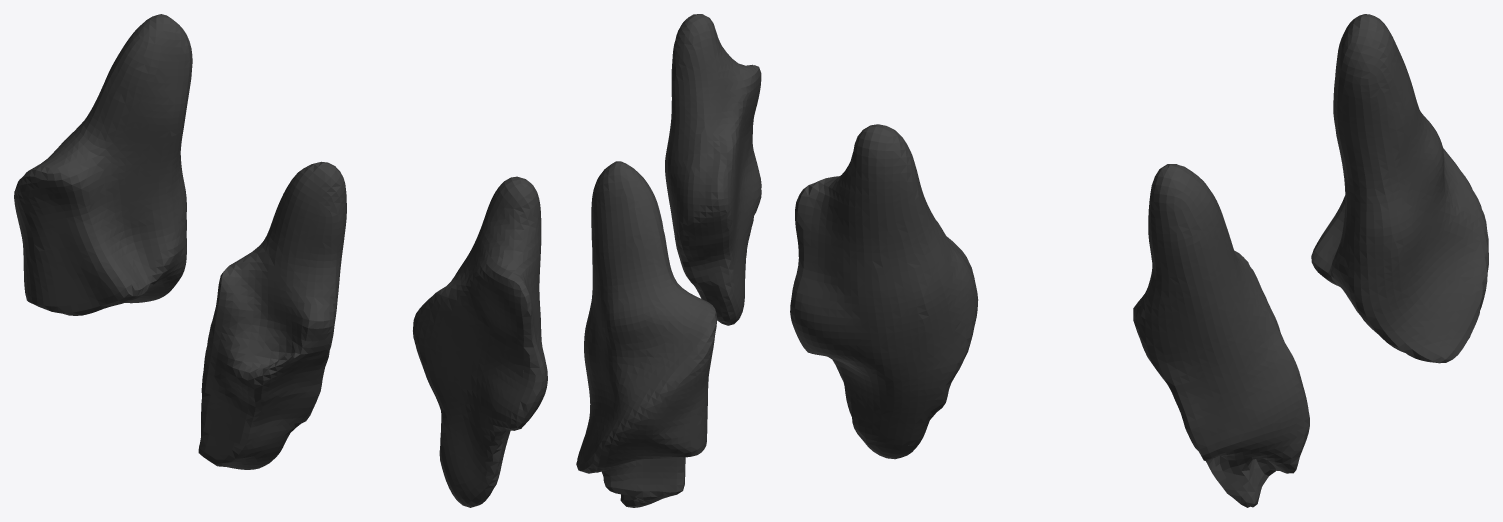
File: canine_cardiac_papillary_muscles.glb
3 views of the same model, side by side, from view 1: azimuth 30°, elevation 25°; view 2: azimuth 150°, elevation 25°; view 3: azimuth 270°, elevation 25° (orthographic). The views are drawn at different scales.
Parts seen in each view (by area): view 1: canine_cardiac_papillary_muscles; view 2: canine_cardiac_papillary_muscles; view 3: canine_cardiac_papillary_muscles.
Boxes of the visible parts, bbox=[...] form: canine_cardiac_papillary_muscles: bbox=[14, 14, 547, 507]; canine_cardiac_papillary_muscles: bbox=[576, 14, 761, 507]; canine_cardiac_papillary_muscles: bbox=[790, 14, 1488, 507].
Bounding box in the file's own units: 0.0151 × 0.0221 × 0.0299.
Materials: 1 (1 with a texture image).
